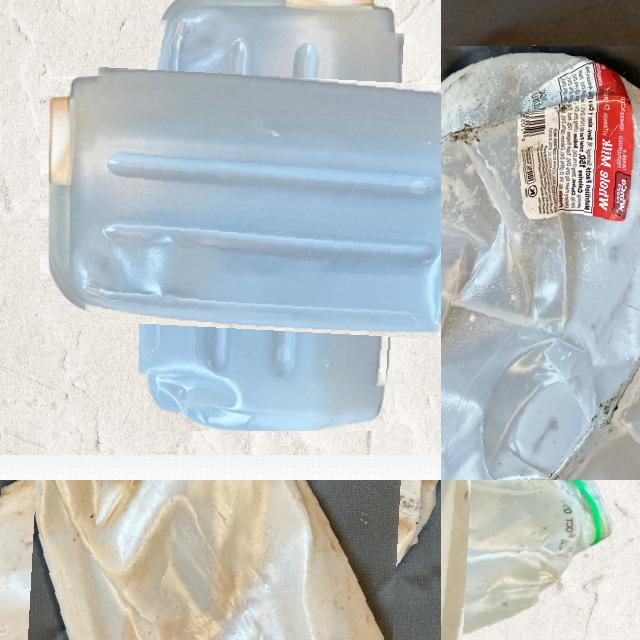milk-jug: (85, 21, 441, 385), (441, 48, 640, 480), (0, 480, 436, 640), (441, 480, 544, 640)
